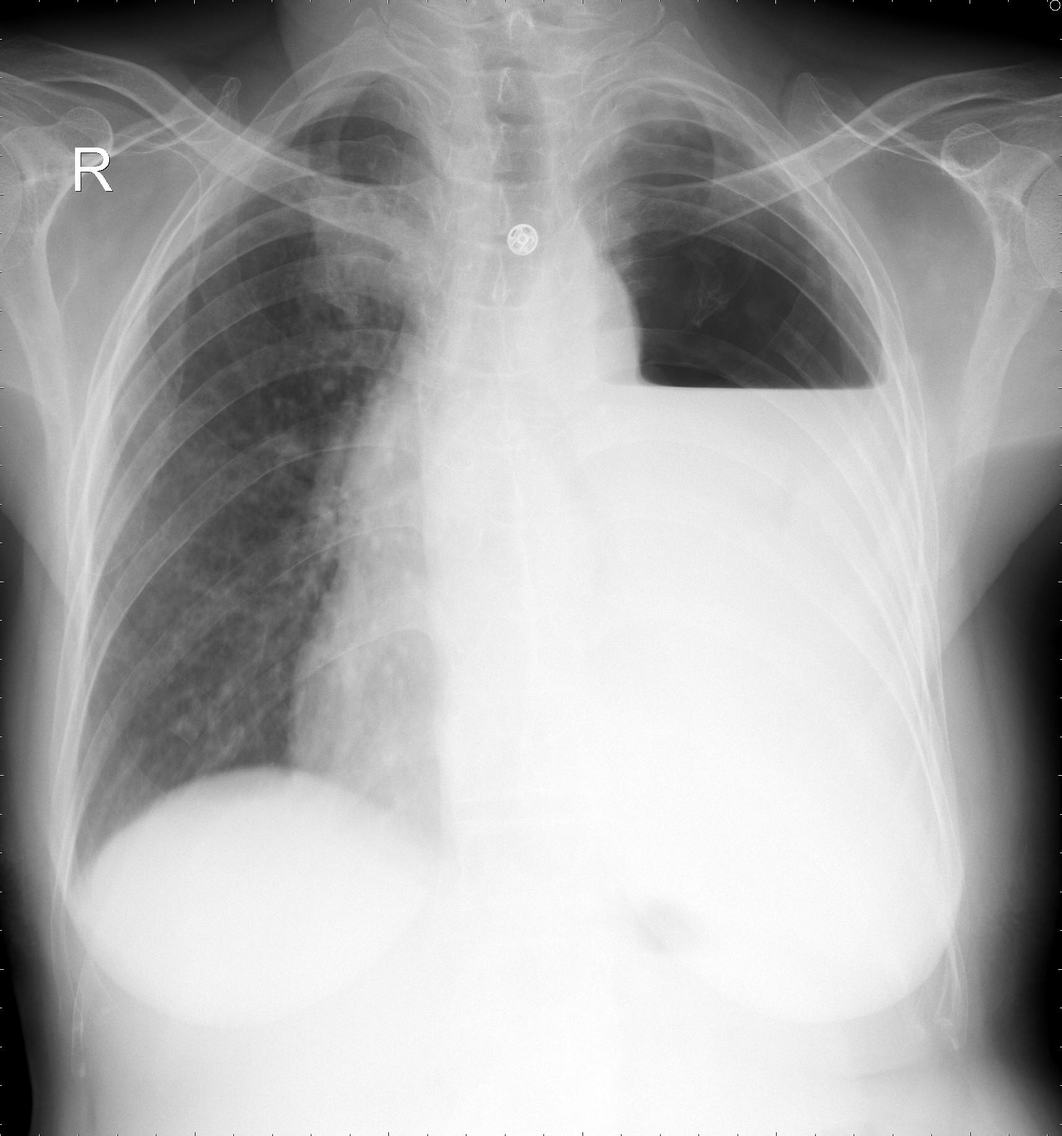Pleural thickening: (700, 84, 830, 216)
